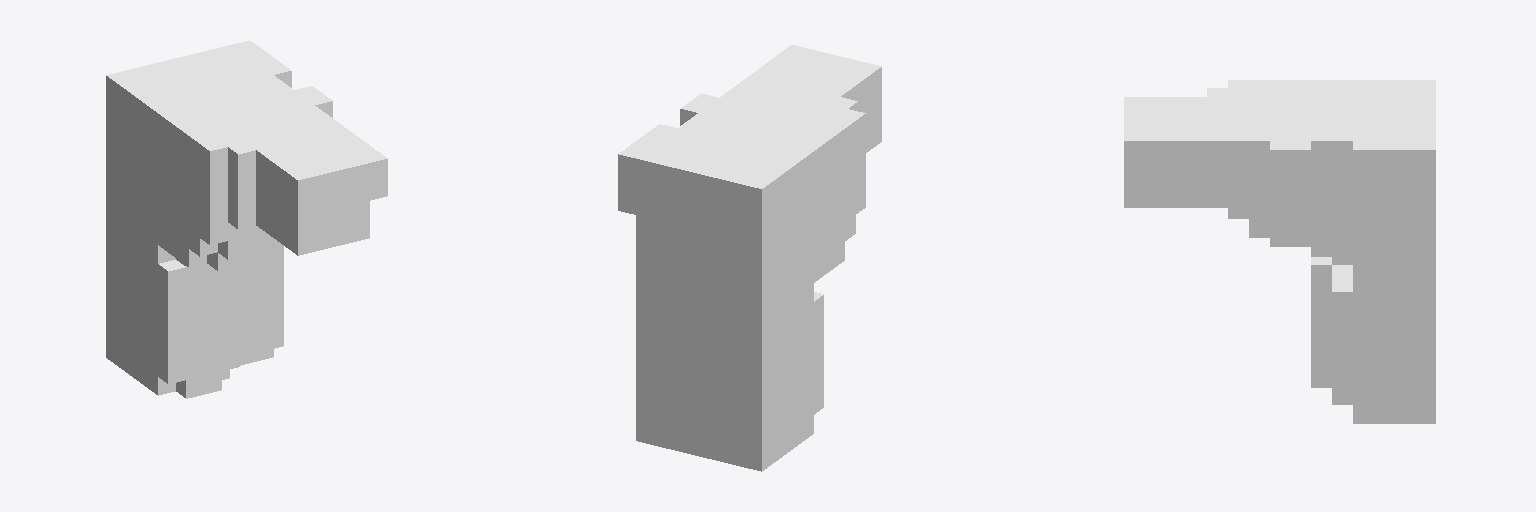
Rendered from beach8.obj.
3 views of the same model, side by side, from view 1: azimuth 30°, elevation 25°; view 2: azimuth 150°, elevation 25°; view 3: azimuth 270°, elevation 25° (orthographic).
Visible parts, largest first — view 1: object 1; view 2: object 1; view 3: object 1.
Part boxes in pixels (left/top/right/bottom): object 1: left=106, top=40, right=387, bottom=398; object 1: left=618, top=45, right=881, bottom=471; object 1: left=1124, top=80, right=1435, bottom=423.
Bounding box in the file's own units: 0.8 × 1.5 × 1.5.